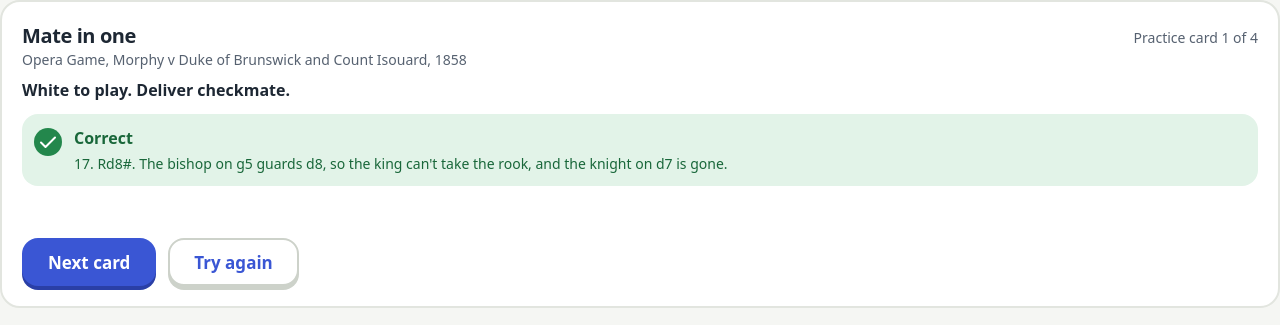
Test case: Practice cards › works through a sequence card move by move
The width and height of the screenshot is (1280, 325).
Later steps or results of the test are not shown.
Click the button "Next card" at (89, 262), box [22,238,156,286]
Wait 700 ms
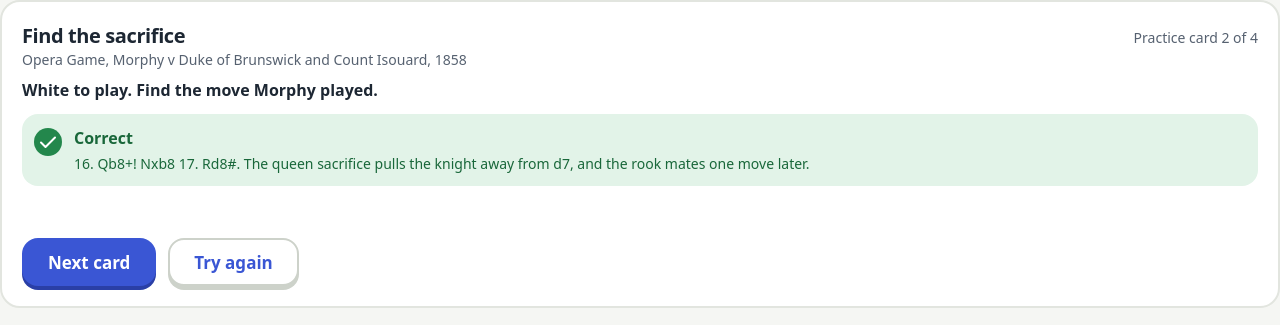
Click the button "Next card" at (89, 262), box [22,238,156,286]
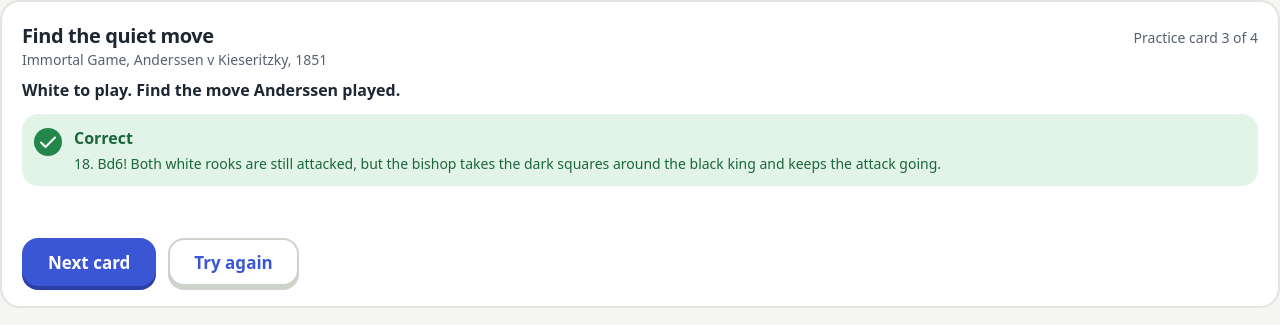
Click the button "Next card" at (89, 262), box [22,238,156,286]
Wait 1400 ms
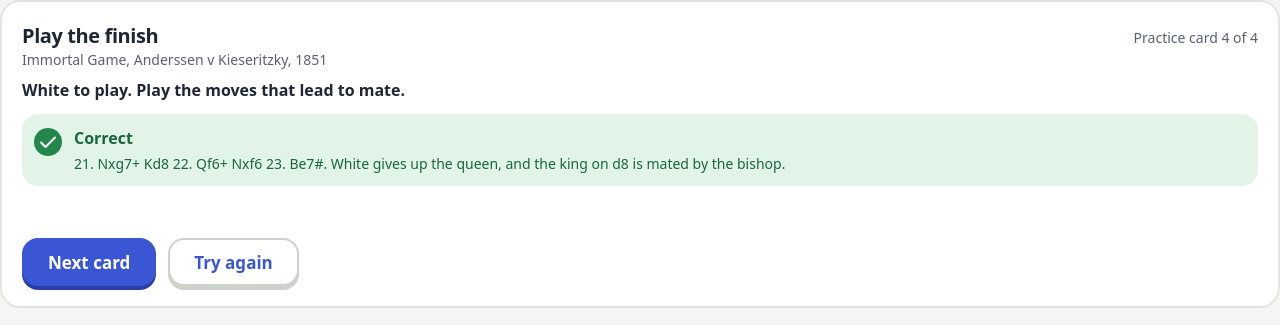
Check: the message shows "Correct", box [74,127,133,149]
Check: the heading "Play the finish" is shown, box [22,22,158,50]
Check: the text "21. Nxg7+ Kd8 22. Qf6+ Nxf6 23. Be7#" is shown, box [74,154,785,173]
Click the button "Next card" at (89, 262), box [22,238,156,286]
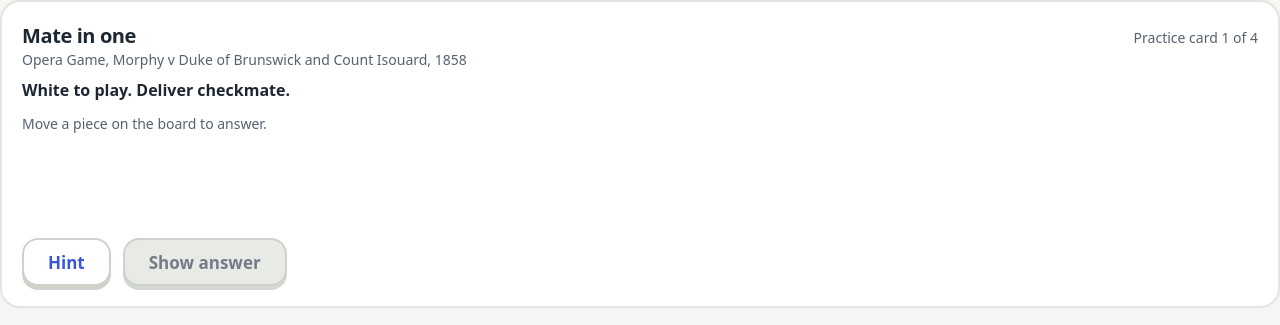
Check: the text "Practice card 1 of 4" is shown, box [1134,28,1258,48]
